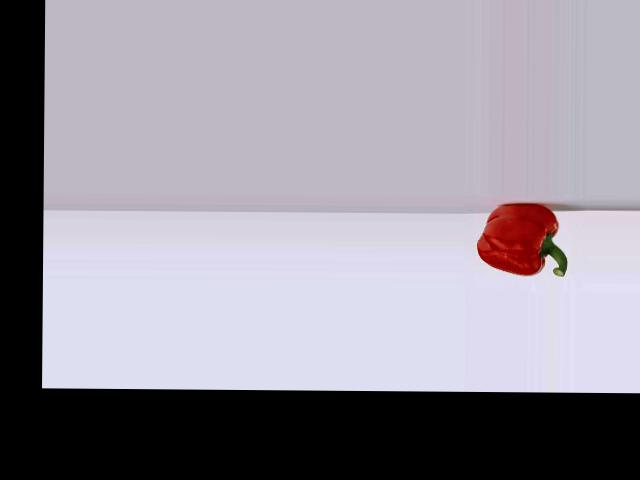bell_pepper: (472, 200, 576, 279)
